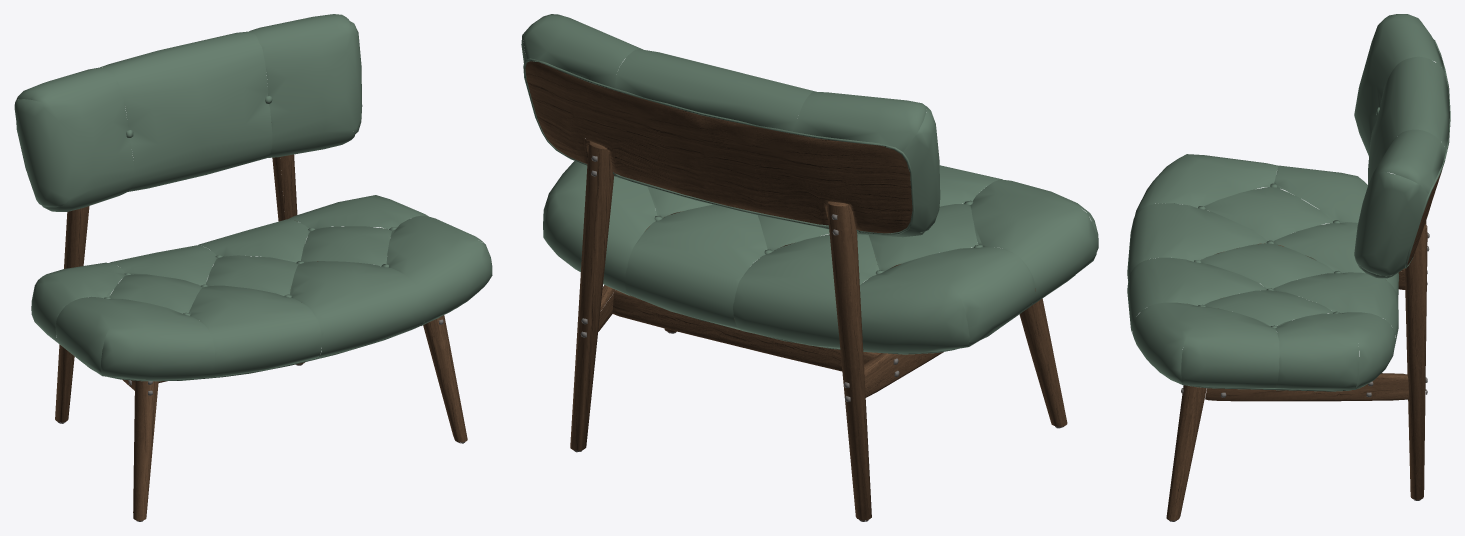
Rendered from chair.glb.
3 renders of one model, left to right at view 1: azimuth 30°, elevation 25°; view 2: azimuth 150°, elevation 25°; view 3: azimuth 270°, elevation 25°, orthographic. The views are drawn at different scales.
Parts seen in each view (by area): view 1: station-chair-fabric, station-chair-wood; view 2: station-chair-fabric, station-chair-wood; view 3: station-chair-fabric, station-chair-wood.
Part boxes in pixels (x1,y1,x2,y2): station-chair-fabric: [14, 14, 492, 381]; station-chair-wood: [55, 154, 467, 520]; station-chair-fabric: [521, 14, 1098, 354]; station-chair-wood: [525, 61, 1067, 520]; station-chair-fabric: [1127, 14, 1450, 391]; station-chair-wood: [1166, 169, 1442, 520].
Bounding box in the file's own units: 0.9394 × 0.78 × 0.6482.
Materials: 3 (1 with a texture image).
